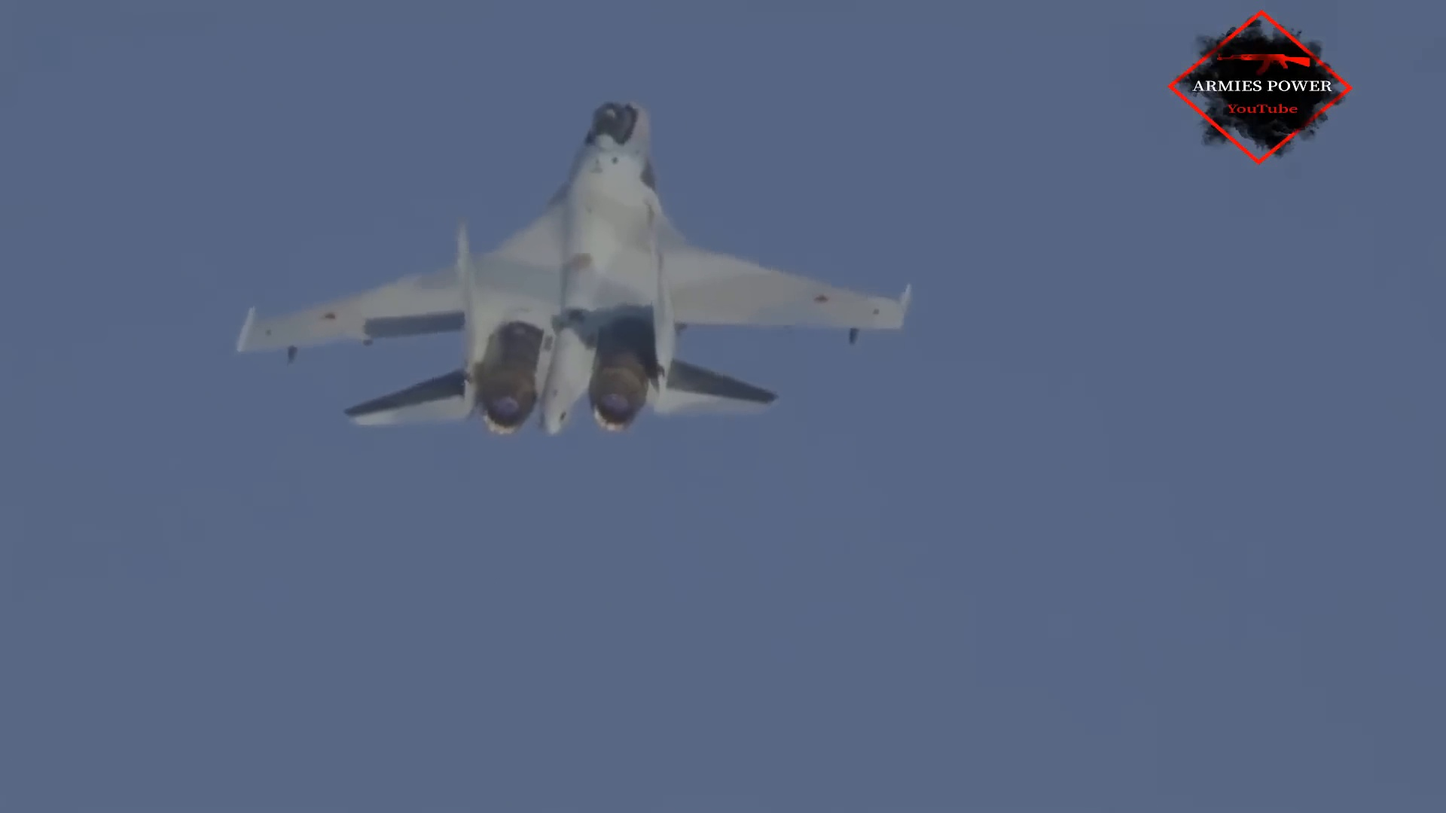Su35: (236, 102, 911, 437)
